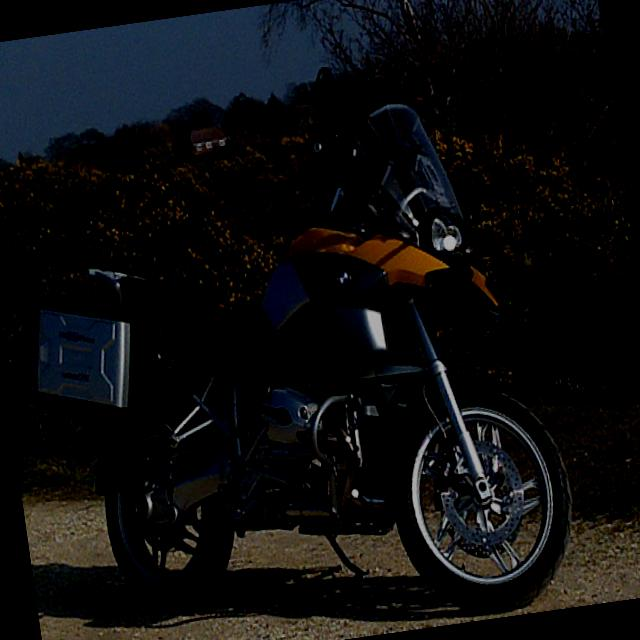Vehicle: (0, 38, 588, 640)
